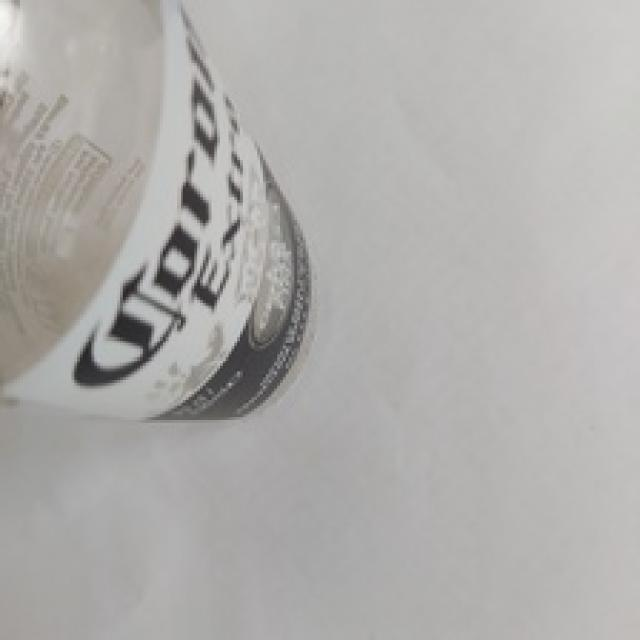Glass: (0, 0, 312, 423)
